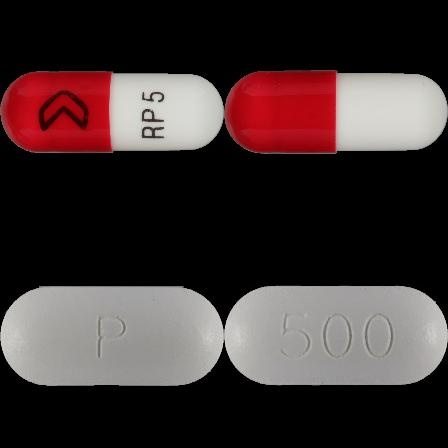51655-117: (0, 0, 224, 224)
